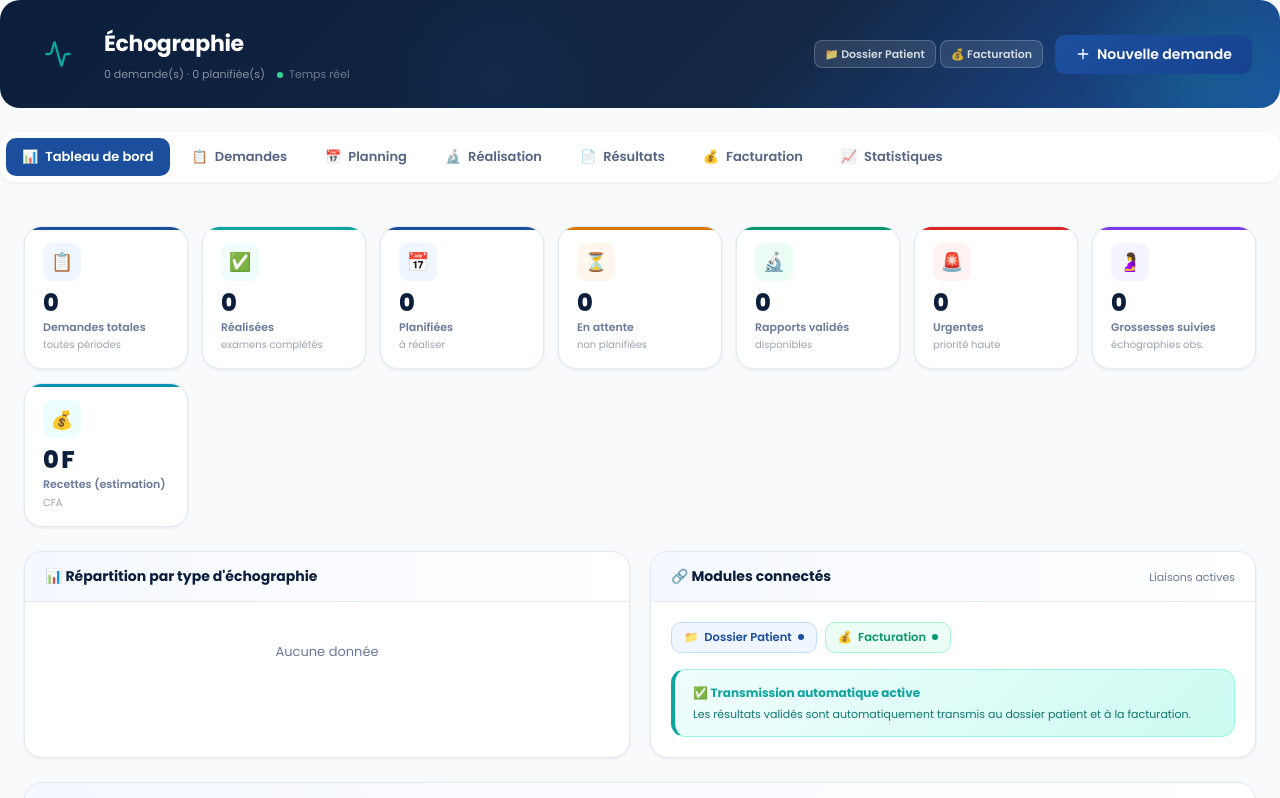
ECHO-04 — une liste réellement vide (chargement réussi, zéro demande) affiche l'état vide honnête, jamais une erreur fabriquée
The width and height of the screenshot is (1280, 798).
Click the button "📋 Demandes": [239, 157] box [176,138,303,176]
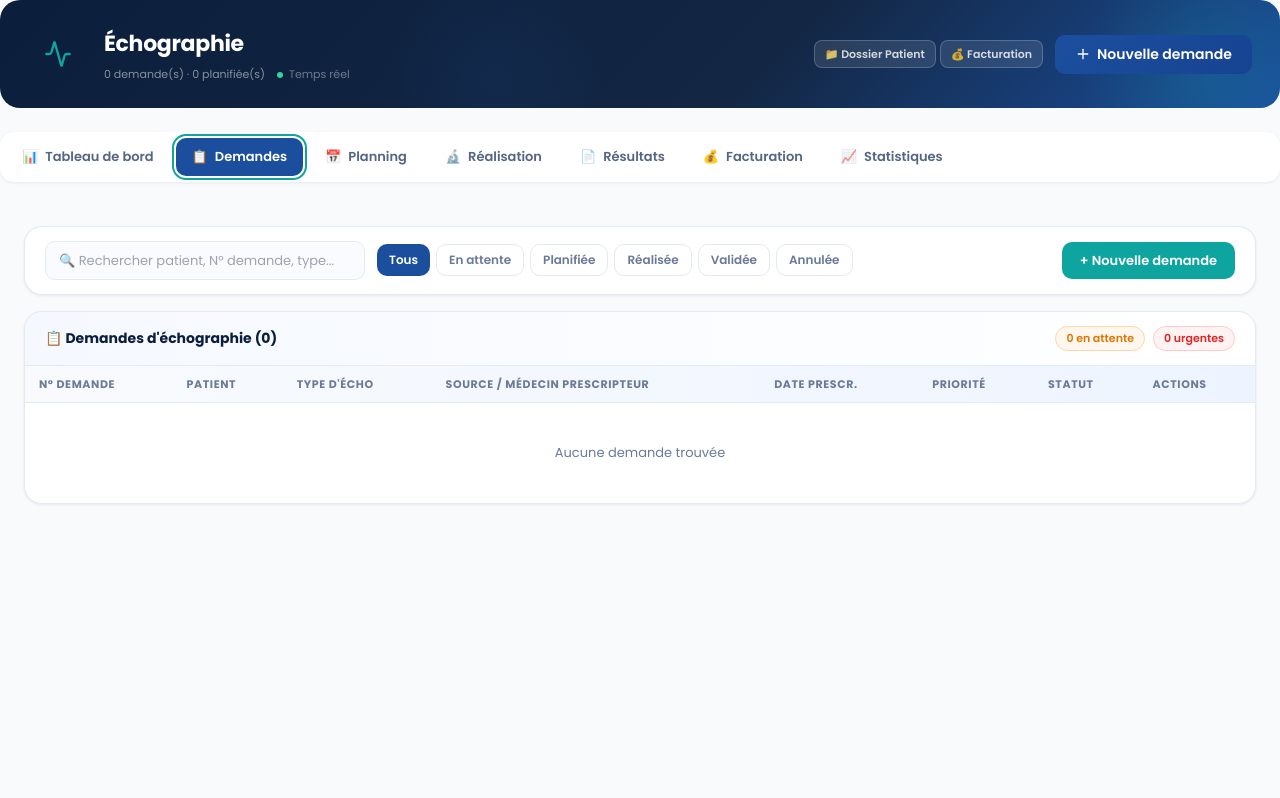
Expected: the text "Aucune demande trouvée" is shown, [25,402,1255,502]
